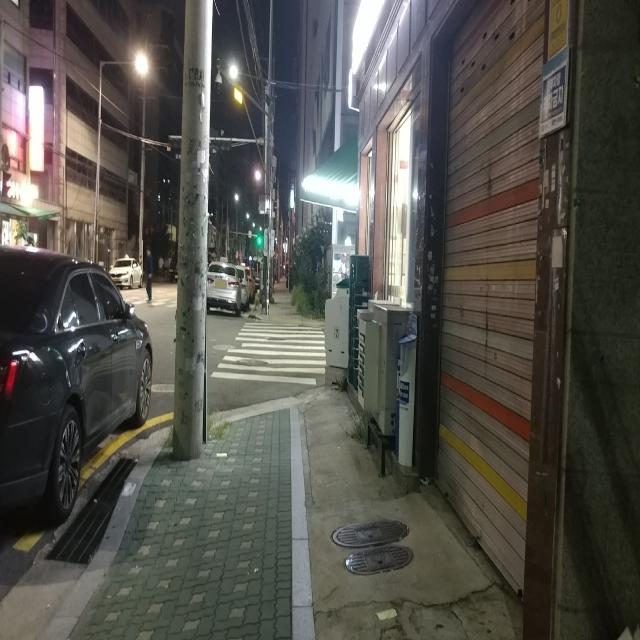횡단보도: (211, 321, 326, 385)
